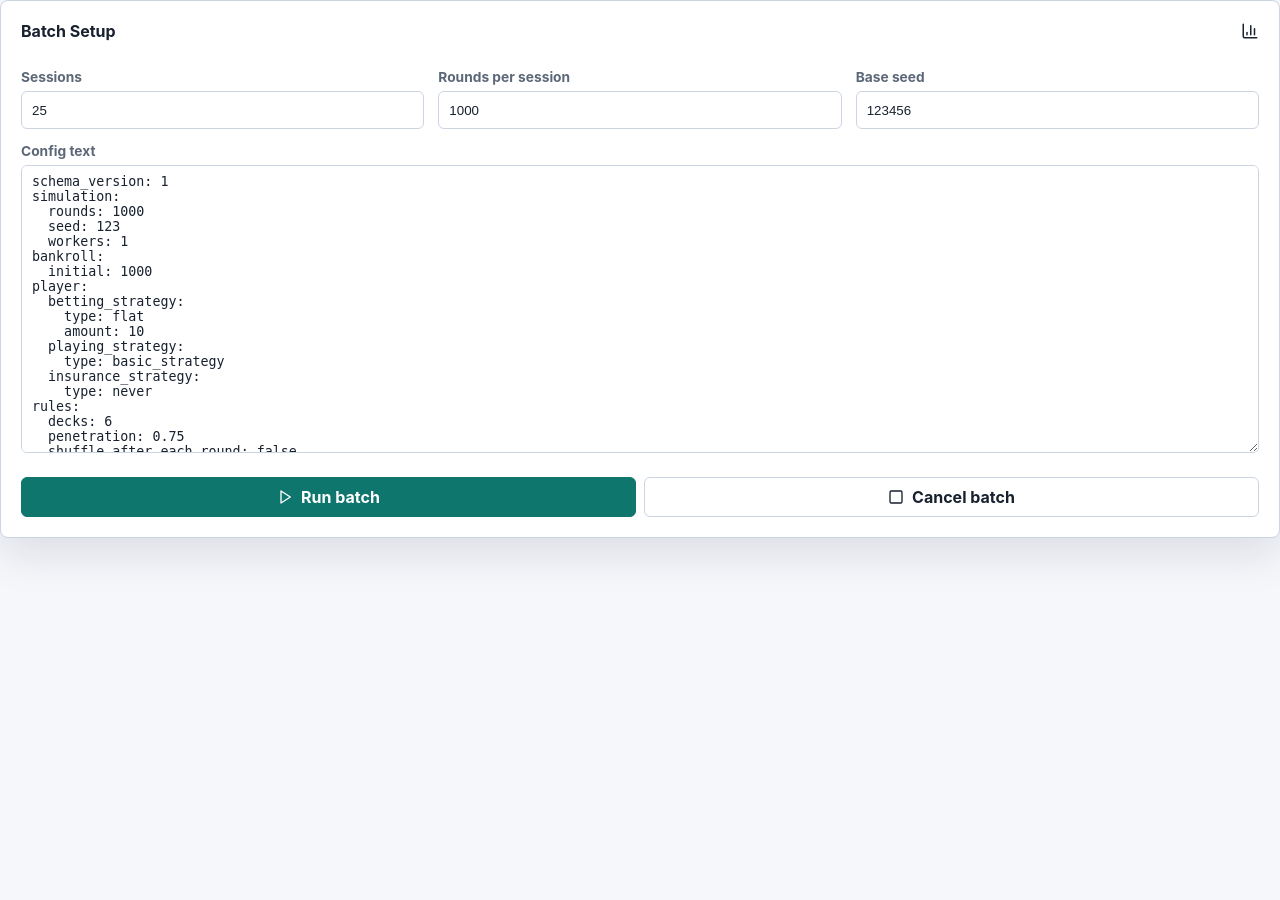
Test case: BatchPage › shows progress and cancels an active batch
Click the button "Run batch".
click(328, 497)  # box [21,477,636,517]
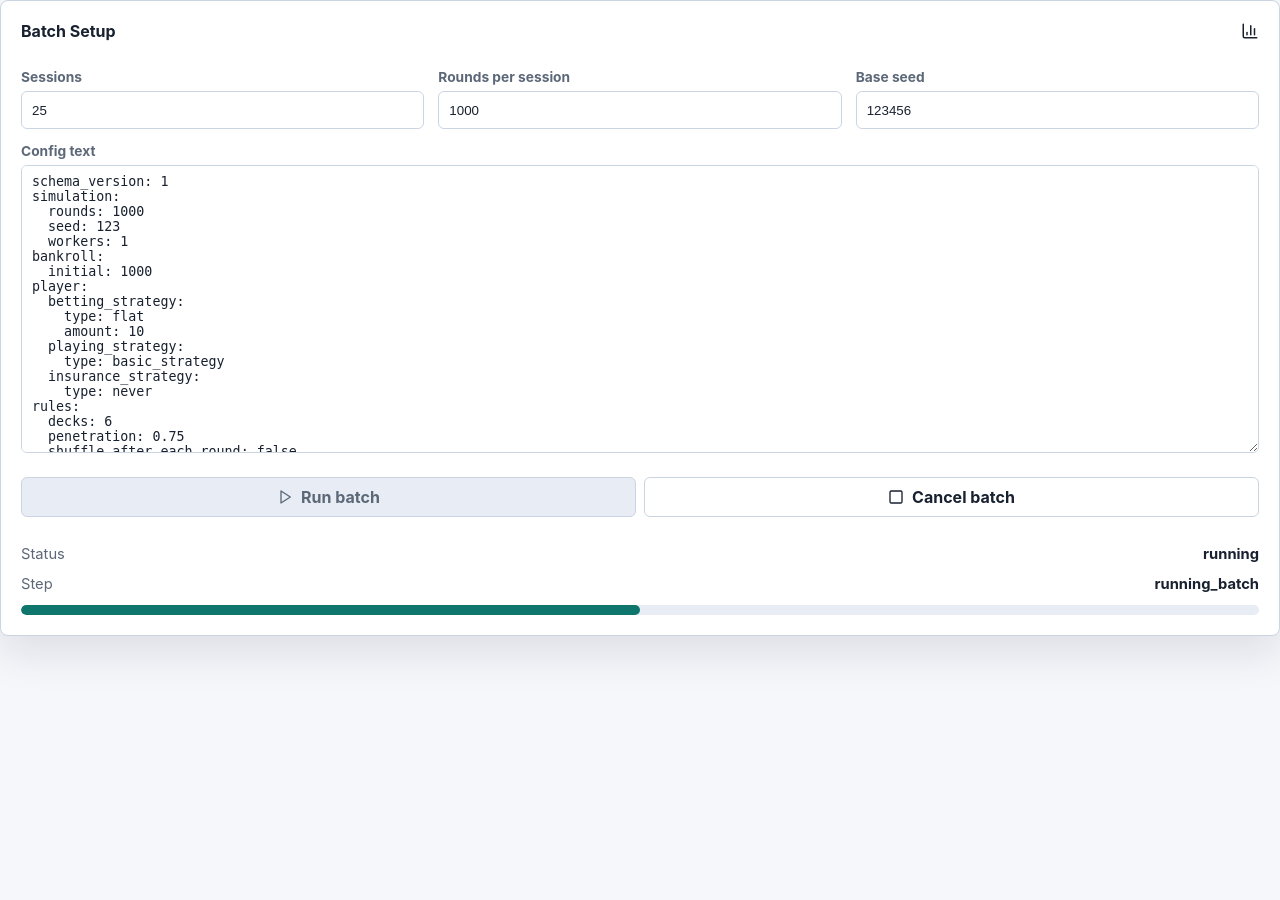
Expected: the element named "Batch progress" shows "running", [1203,545,1259,563]
Click the button "Cancel batch".
click(952, 497)  # box [644,477,1259,517]
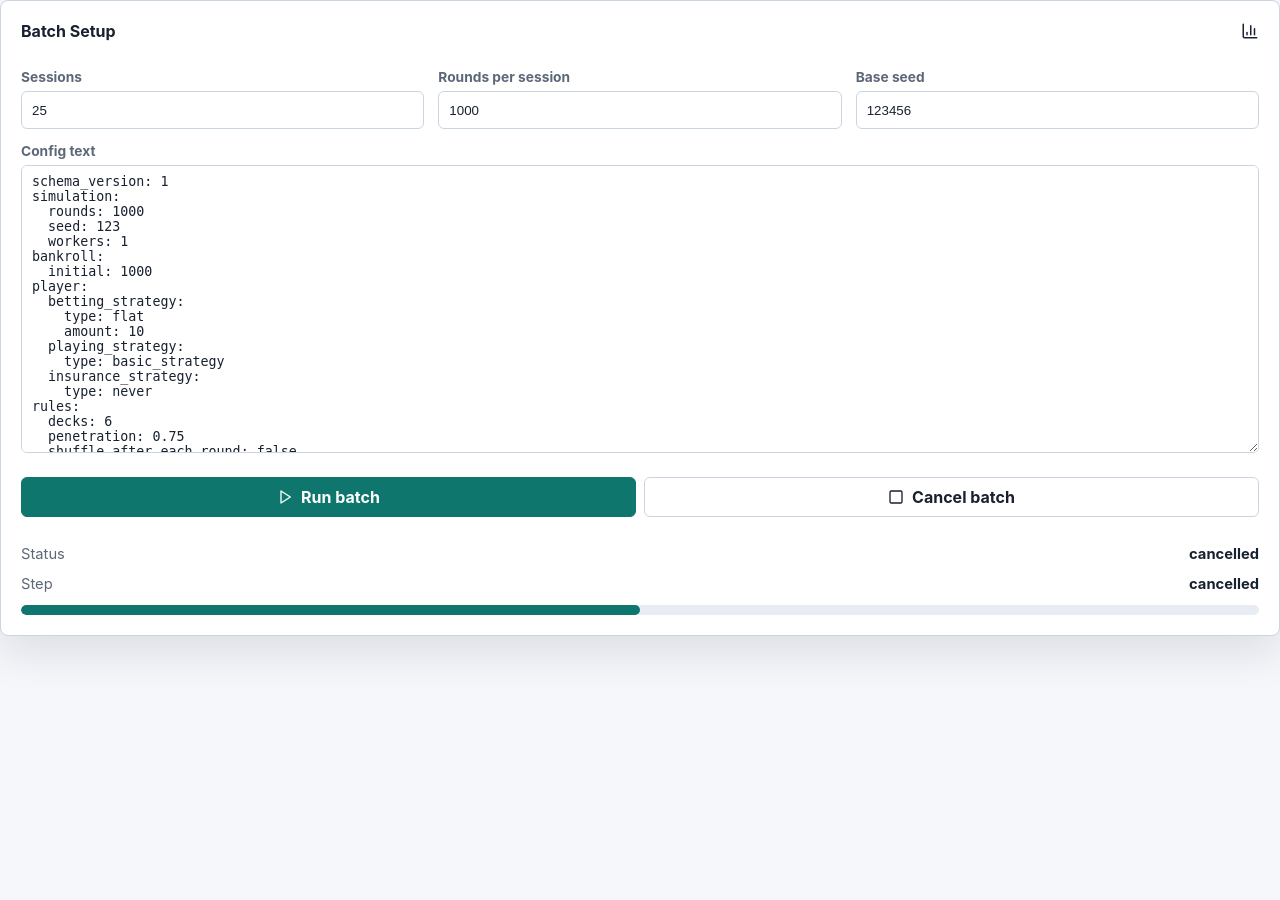
Expected: the element named "Batch progress" shows "cancelled", [1189,545,1259,563]
